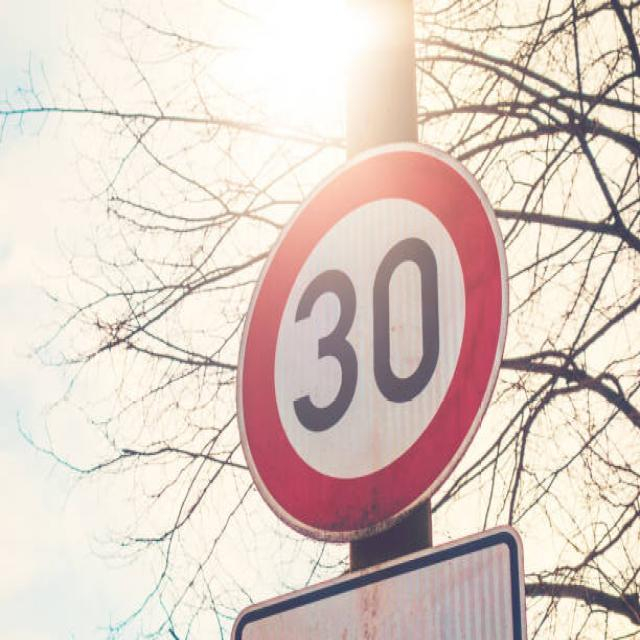speed_limit_30: (238, 140, 510, 544)
